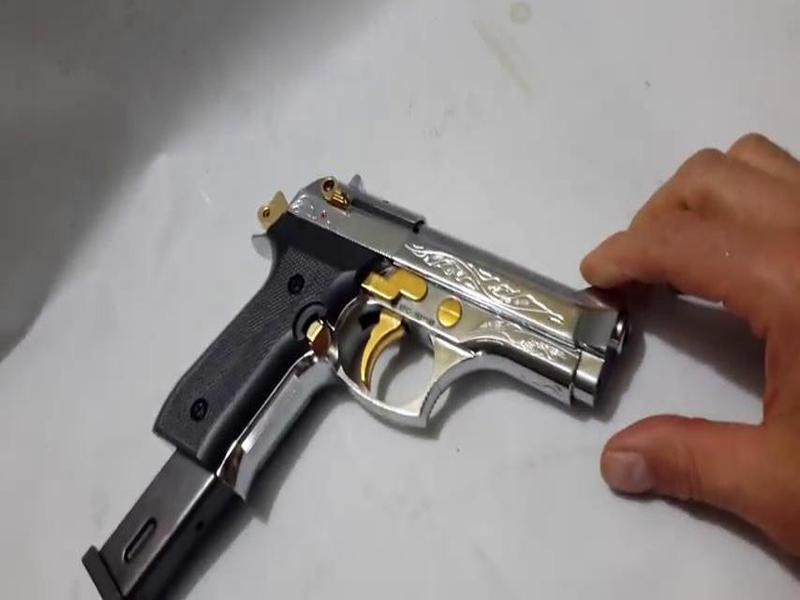Pistola: (157, 162, 652, 515)
